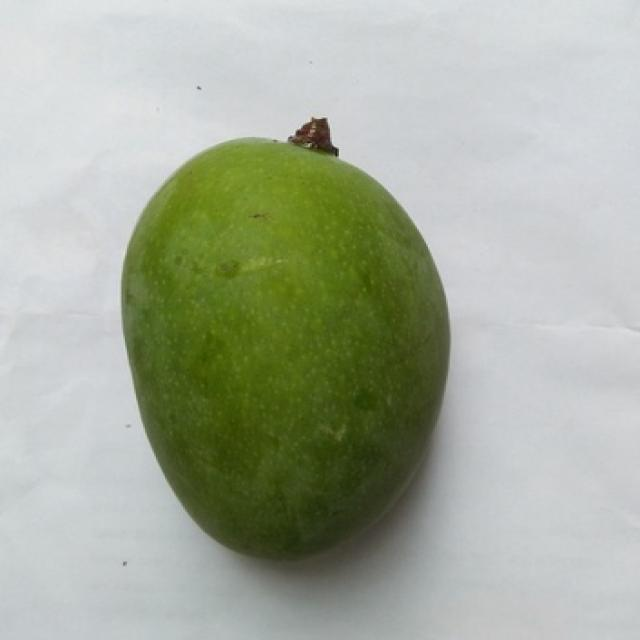Mango: (121, 137, 448, 560)
